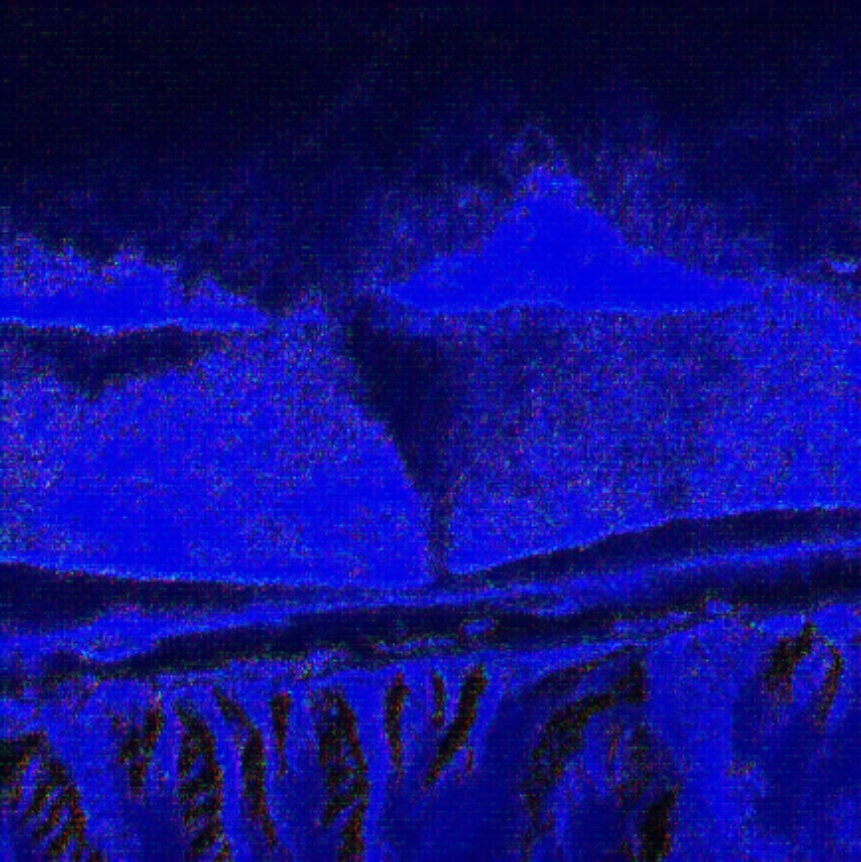rip_current: (252, 166, 509, 554)
